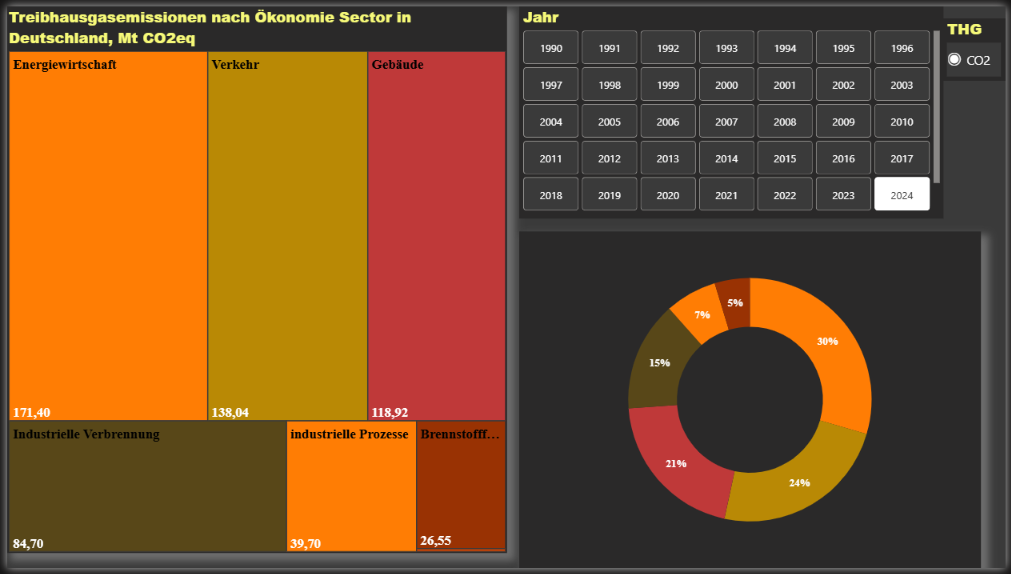

What the dashboard file says about the page in this screenshot:
{"tool":"powerbi","page":{"name":"Deutschland_nach_Wirtschaft","canvas":[1280,720],"ordinal":5},"visuals":[{"type":"treemap","title":"Treibhausgasemissionen nach Ökonomie Sector in Deutschland,  Mt CO2eq","fields":{"Group":["dim_sector.Sector"],"Values":["fact_GHG.Total THG"]},"box":[0,0,640.6,701.2],"z":0},{"type":"donutChart","title":"  Treibhausgasemissionen nach Ökonomie Sector in Deutschland, 2000-2024, Mt CO2eq","fields":{"Category":["dim_sector.Sector"],"Y":["fact_GHG.Total THG"],"Series":["dim_country.Country Code"]},"box":[656,288,592,432],"z":1000},{"type":"listSlicer","title":"THG","fields":{"Values":["dim_GHG.ID_GHG"]},"box":[1200,16,80,80],"z":2000},{"type":"advancedSlicerVisual","fields":{"Values":["dim_year.Jahr"]},"box":[656,0,544,272],"z":3000}]}

Visuals, with their boxes in screenshot pixels (x1, y1, x2, y2), scaled from the page's 1280x720 canvas onto the 1011x574 screenshot:
"Treibhausgasemissionen nach Ökonomie Sector in Deutschland,  Mt CO2eq" treemap: x1=0, y1=0, x2=506, y2=559
"  Treibhausgasemissionen nach Ökonomie Sector in Deutschland, 2000-2024, Mt CO2eq" donutChart: x1=518, y1=230, x2=986, y2=573
"THG" listSlicer: x1=948, y1=13, x2=1010, y2=77
advancedSlicerVisual - dim_year.Jahr: x1=518, y1=0, x2=948, y2=217
